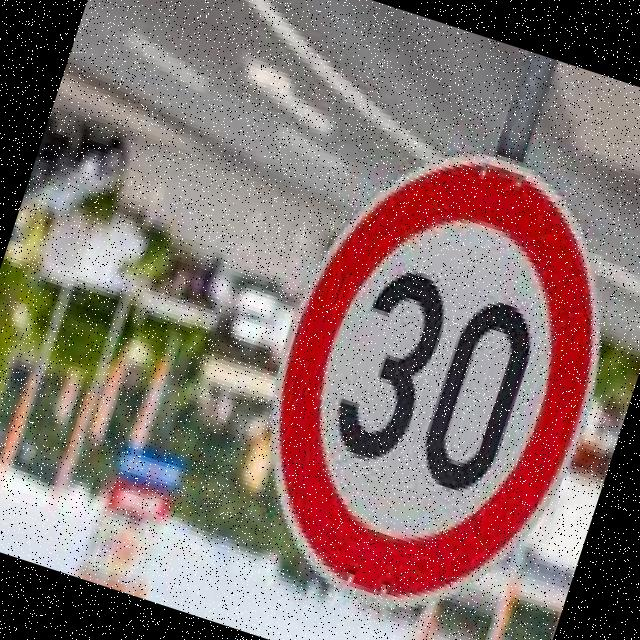speed_limit_30: (211, 106, 640, 640)
